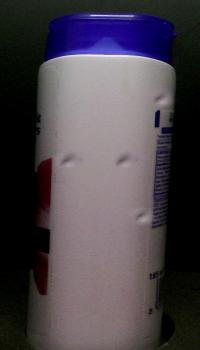dent_unacceptable: (123, 207, 157, 228), (54, 151, 85, 172), (111, 151, 139, 171), (147, 89, 173, 110)
